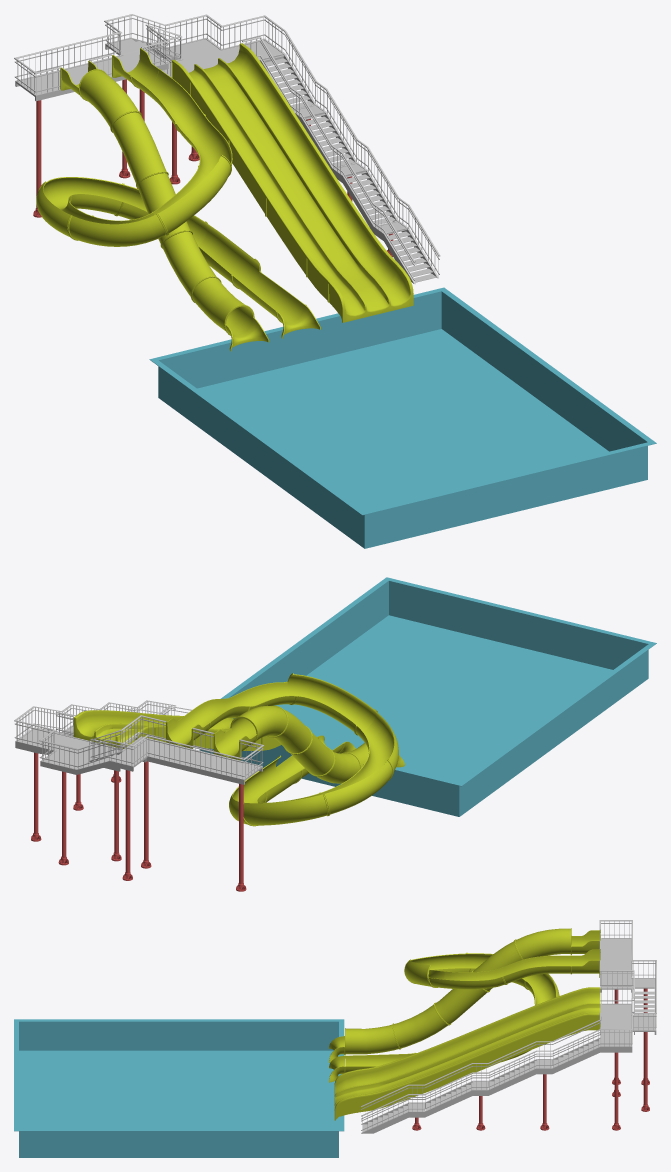
File: Slope.fbx
The picture shows the model from 3 angles, top to bottom: view 1: azimuth 30°, elevation 25°; view 2: azimuth 150°, elevation 25°; view 3: azimuth 270°, elevation 25°; orthographic projection. The views are drawn at different scales.
Visible parts, largest first — view 1: Pool, Slopes; view 2: Pool, Slopes; view 3: Pool, Slopes.
Boxes of the visible parts, x1=… form: Pool: x1=149, y1=287, x2=656, y2=548; Slopes: x1=14, y1=14, x2=440, y2=351; Pool: x1=199, y1=577, x2=656, y2=816; Slopes: x1=14, y1=673, x2=404, y2=891; Pool: x1=14, y1=1019, x2=344, y2=1157; Slopes: x1=329, y1=920, x2=656, y2=1133.
Size of the model in its own units: 1724 by 1063 by 4029.
